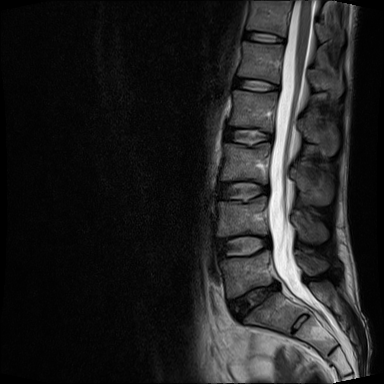Lumbar Disc Bulge (LDB): (222, 273, 286, 329)
Normal IVD: (211, 228, 273, 263), (210, 175, 273, 206), (227, 69, 284, 97), (220, 122, 276, 150), (237, 26, 288, 48)
